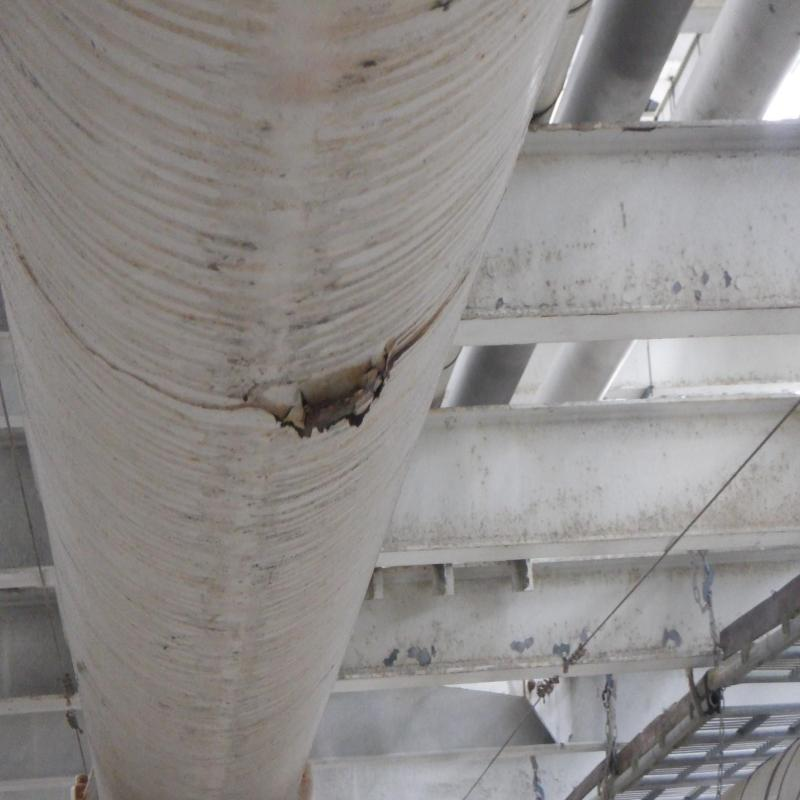corrosion: (286, 386, 378, 436)
